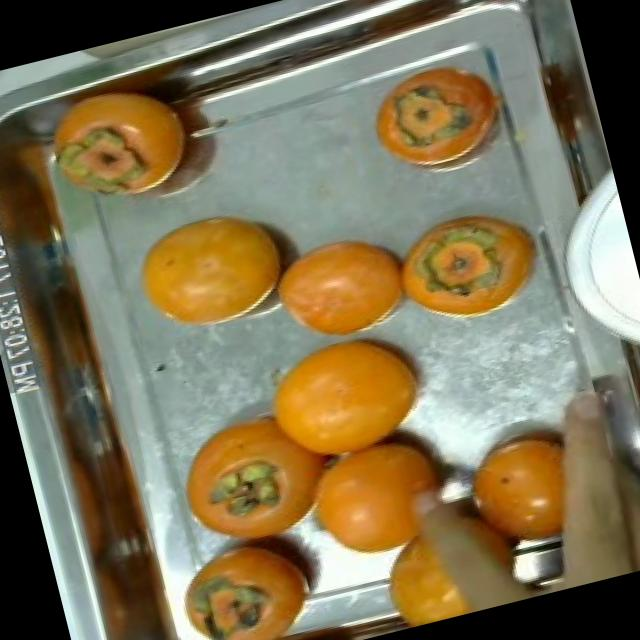Fruit: (241, 307, 463, 488), (153, 390, 347, 569), (436, 403, 618, 579), (375, 184, 567, 346), (116, 188, 306, 348), (22, 68, 210, 228), (348, 36, 528, 196), (253, 210, 432, 358), (156, 512, 347, 640)
